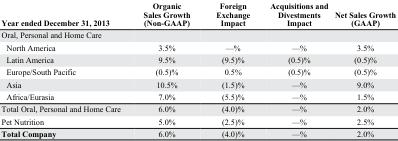table: (0, 1, 395, 137)
table column: (0, 1, 131, 137), (131, 1, 202, 137), (259, 1, 330, 137), (330, 1, 395, 137), (202, 1, 259, 137)
table column header: (0, 1, 395, 28)
table projected row header: (0, 28, 395, 40)
table row: (0, 1, 395, 28), (0, 52, 395, 65), (0, 89, 395, 102), (0, 28, 395, 40), (0, 40, 395, 52), (0, 65, 395, 77), (0, 77, 395, 89), (0, 102, 395, 114), (0, 114, 395, 126), (0, 126, 395, 137)
